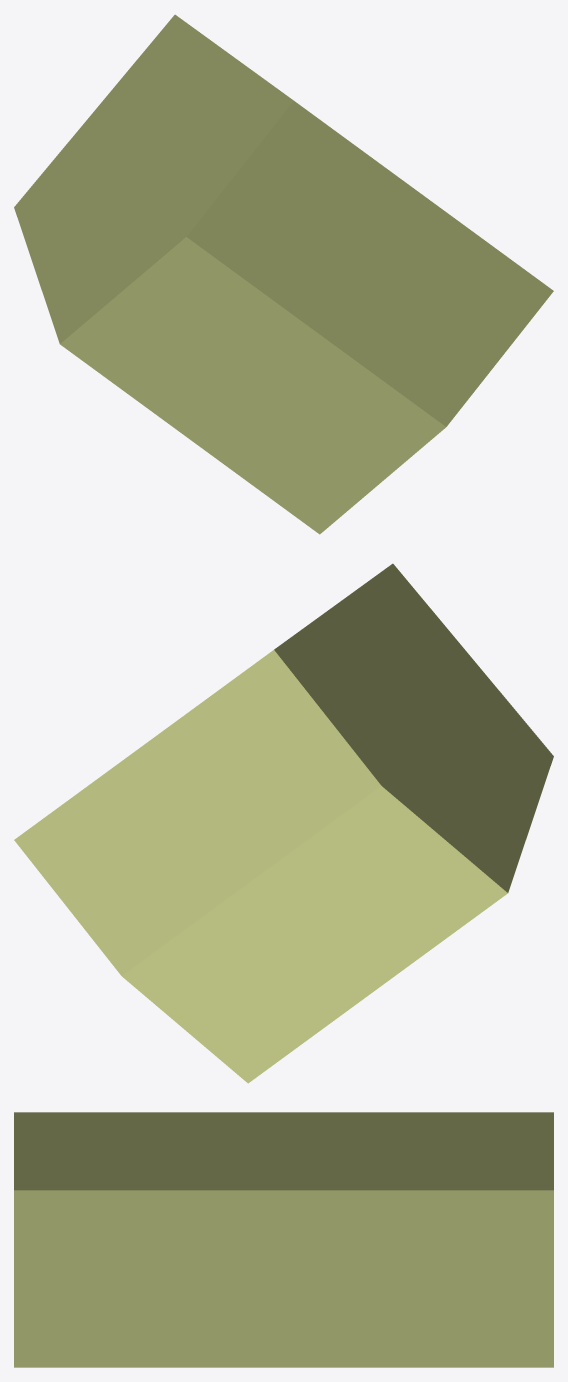
3 views of the same model, one above another, from view 1: azimuth 30°, elevation 25°; view 2: azimuth 150°, elevation 25°; view 3: azimuth 270°, elevation 25° (orthographic). The views are drawn at different scales.
Visible parts, largest first — view 1: 0_0_1_2_0_0_0_2_2_2_3; view 2: 0_0_1_2_0_0_0_2_2_2_3; view 3: 0_0_1_2_0_0_0_2_2_2_3.
Part boxes in pixels (left/top/right/bottom): 0_0_1_2_0_0_0_2_2_2_3: left=14, top=14, right=553, bottom=534; 0_0_1_2_0_0_0_2_2_2_3: left=14, top=563, right=553, bottom=1083; 0_0_1_2_0_0_0_2_2_2_3: left=14, top=1112, right=553, bottom=1367.
Size of the model in its own units: 5.6 by 5.77 by 9.
